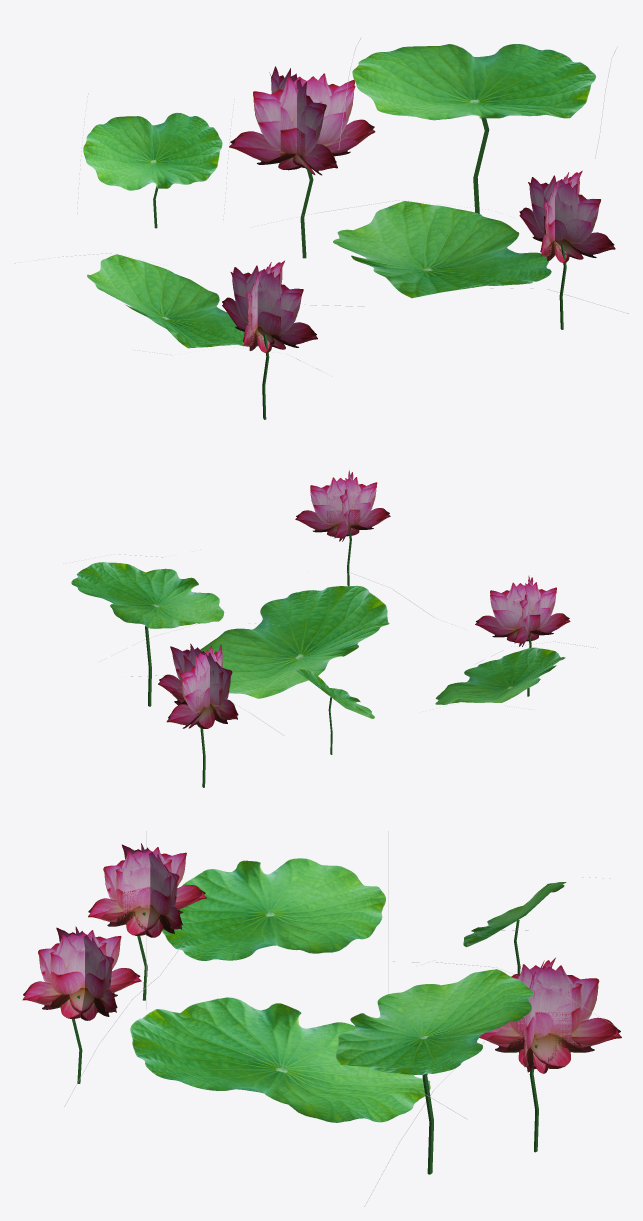
Rendered from lotus.fbx.
3 views of the same model, one above another, from view 1: azimuth 30°, elevation 25°; view 2: azimuth 150°, elevation 25°; view 3: azimuth 270°, elevation 25° (orthographic). The views are drawn at different scales.
Visible parts, largest first — view 1: polySurface16, polySurface26, polySurface21, polySurface30, polySurface34; view 2: polySurface16, polySurface26, polySurface21, polySurface30, polySurface34; view 3: polySurface16, polySurface26, polySurface30, polySurface21, polySurface34.
Part boxes in pixels (x1=…): polySurface16: x1=15, y1=37, x2=628, y2=376; polySurface26: x1=229, y1=66, x2=375, y2=175; polySurface21: x1=222, y1=260, x2=317, y2=352; polySurface30: x1=519, y1=170, x2=615, y2=263; polySurface34: x1=153, y1=118, x2=566, y2=419; polySurface16: x1=63, y1=549, x2=597, y2=735; polySurface26: x1=158, y1=643, x2=238, y2=728; polySurface21: x1=475, y1=576, x2=570, y2=646; polySurface30: x1=295, y1=470, x2=390, y2=541; polySurface34: x1=145, y1=532, x2=531, y2=787; polySurface16: x1=64, y1=831, x2=616, y2=1206; polySurface26: x1=479, y1=957, x2=621, y2=1073; polySurface30: x1=22, y1=926, x2=141, y2=1020; polySurface21: x1=88, y1=843, x2=206, y2=937; polySurface34: x1=72, y1=912, x2=538, y2=1174.
Size of the model in its own units: 13.68 by 4.9 by 11.07.
